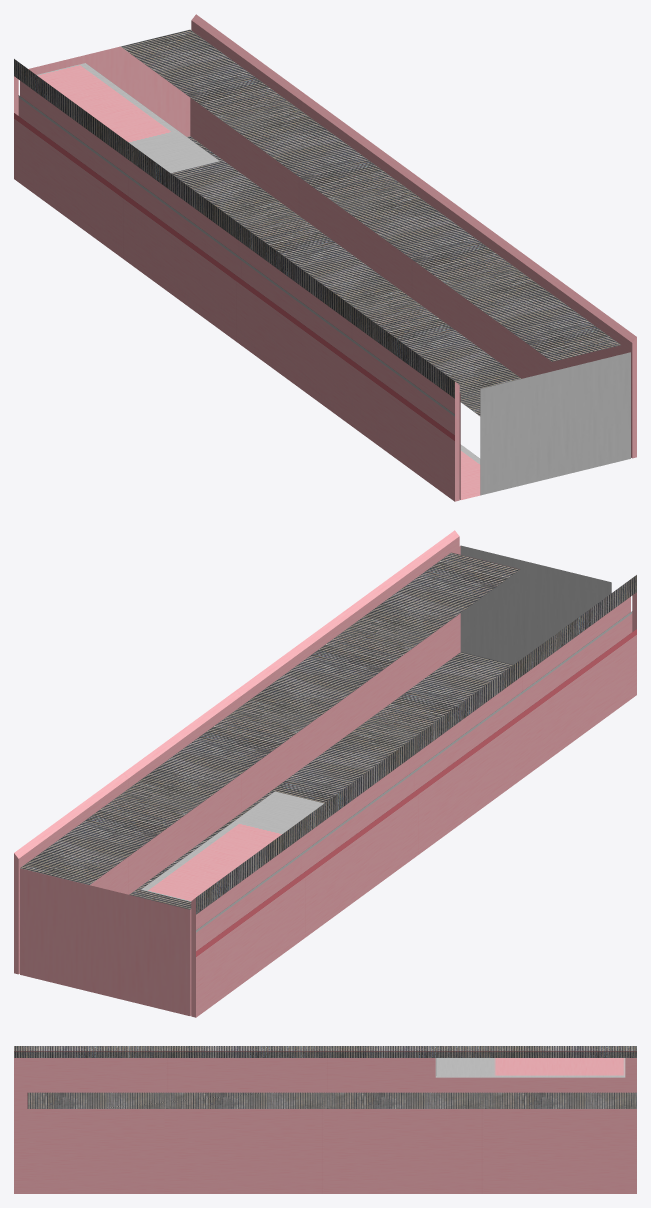
The model's file is Treadmill Merged NEW.fbx.
3 renders of one model, top to bottom at view 1: azimuth 30°, elevation 25°; view 2: azimuth 150°, elevation 25°; view 3: azimuth 270°, elevation 25°, orthographic. The views are drawn at different scales.
Parts seen in each view (by area): view 1: Treadmill_Merged_Sides, Treadmill_Merged_Rubber; view 2: Treadmill_Merged_Sides, Treadmill_Merged_Rubber; view 3: Treadmill_Merged_Sides, Treadmill_Merged_Rubber.
Boxes of the visible parts, bbox=[...] form: Treadmill_Merged_Sides: bbox=[14, 14, 636, 501]; Treadmill_Merged_Rubber: bbox=[37, 29, 620, 361]; Treadmill_Merged_Sides: bbox=[14, 530, 636, 1017]; Treadmill_Merged_Rubber: bbox=[20, 552, 519, 901]; Treadmill_Merged_Sides: bbox=[14, 1046, 636, 1193]; Treadmill_Merged_Rubber: bbox=[27, 1058, 636, 1108].
Bounding box in the file's own units: 1.43 × 0.9041 × 6.
